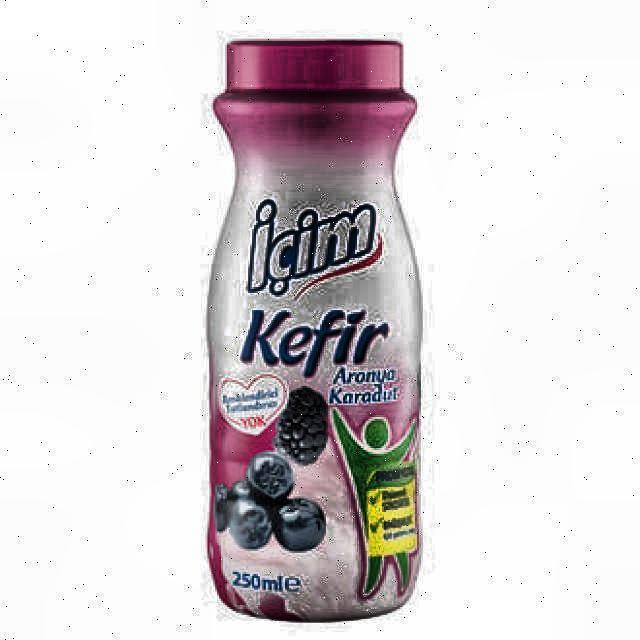plastic: (205, 37, 425, 625)
